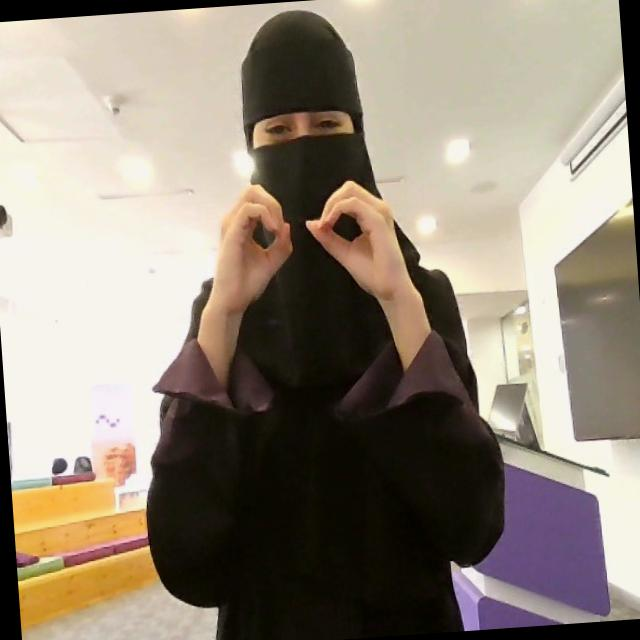analysis: (201, 168, 417, 302)
